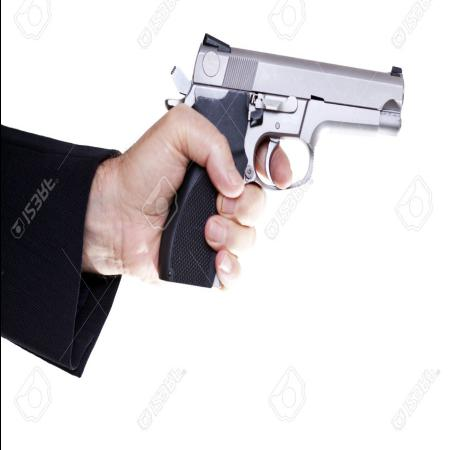Pistol: (155, 33, 407, 293)
